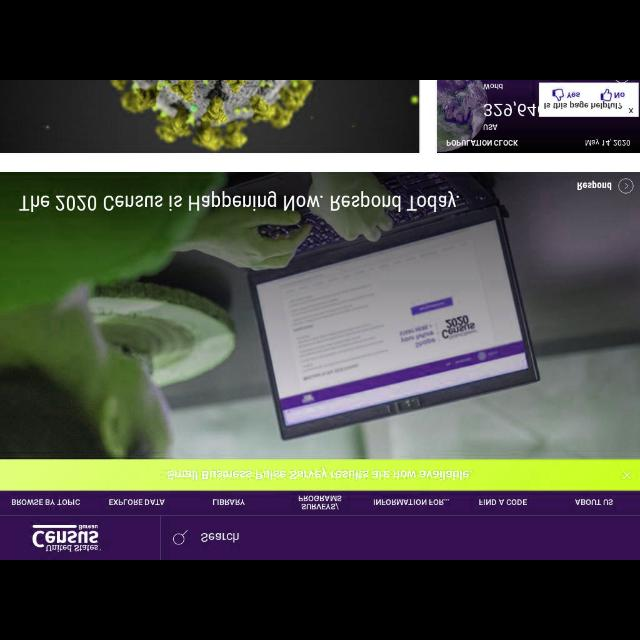backgroundimage: (1, 173, 639, 459)
icon: (172, 530, 188, 544), (619, 178, 633, 194), (621, 471, 631, 482)
image: (1, 80, 419, 152), (437, 81, 639, 153), (31, 525, 101, 551)
multitab: (1, 490, 639, 516)
text: (19, 192, 458, 212), (168, 468, 474, 480), (298, 495, 342, 509), (372, 498, 448, 506), (11, 498, 80, 506), (202, 530, 238, 544), (109, 498, 165, 506), (478, 498, 528, 506), (576, 498, 614, 506), (212, 498, 245, 507), (577, 182, 611, 190)
toolbar: (1, 515, 639, 559)
